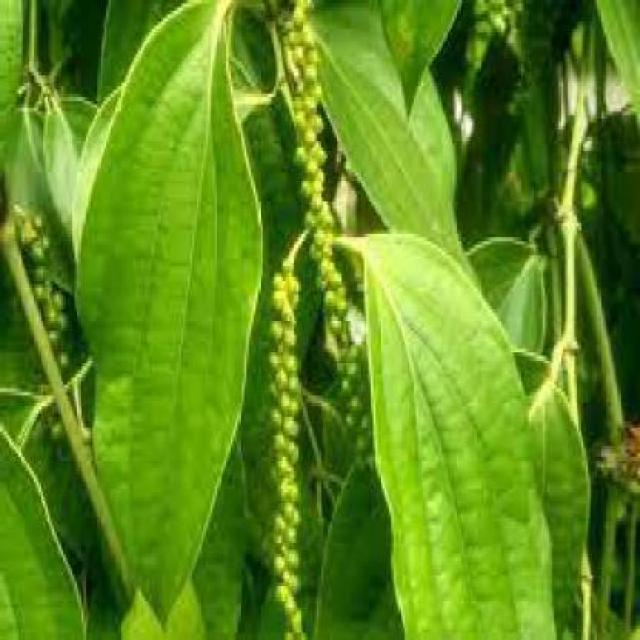UNRIPE: (303, 14, 369, 489), (270, 266, 333, 622)
